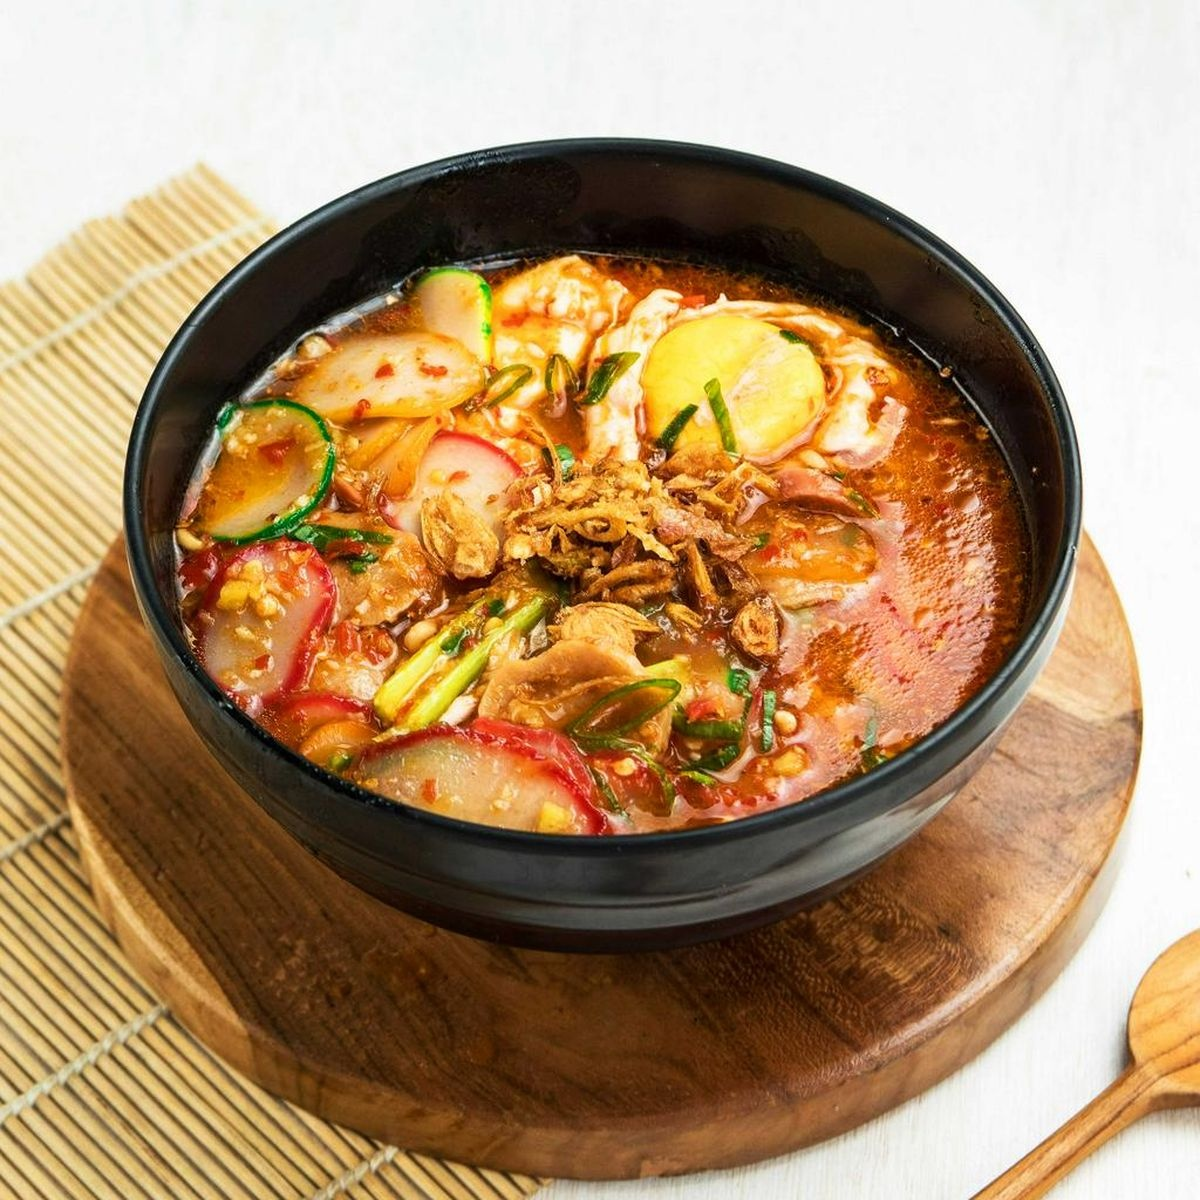seblak: (178, 256, 922, 837)
